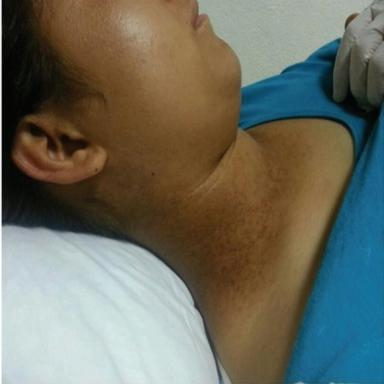Darier_s-Disease: (165, 145, 288, 301)
